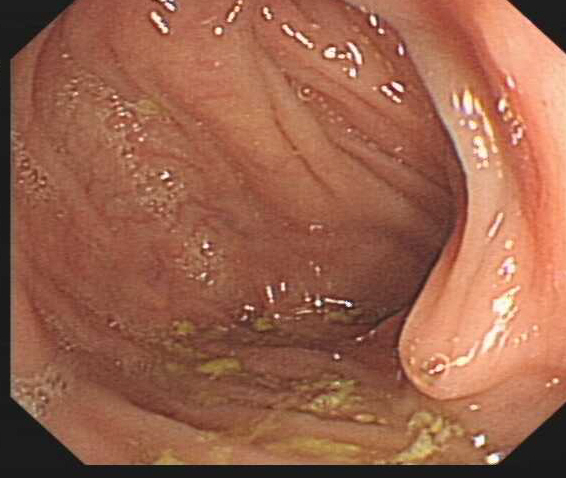others: (395, 212, 539, 404)
